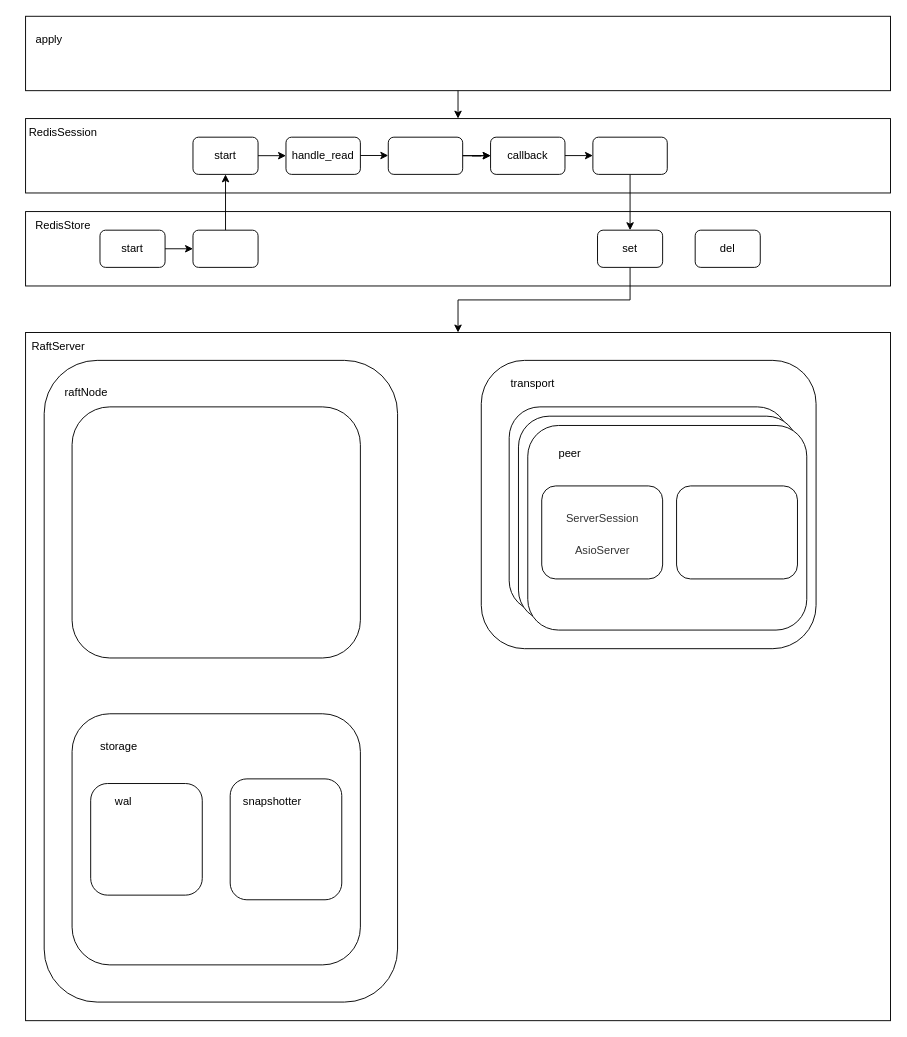
Image size: 907x1037. Some labels were removed from this diagram. Each missing label, with the centre of its shape:
"node" belongs at (215,532).
"on_redis_reply" belongs at (425,155).
"set_command" belongs at (629,155).
"start_accept" belongs at (225,248).
